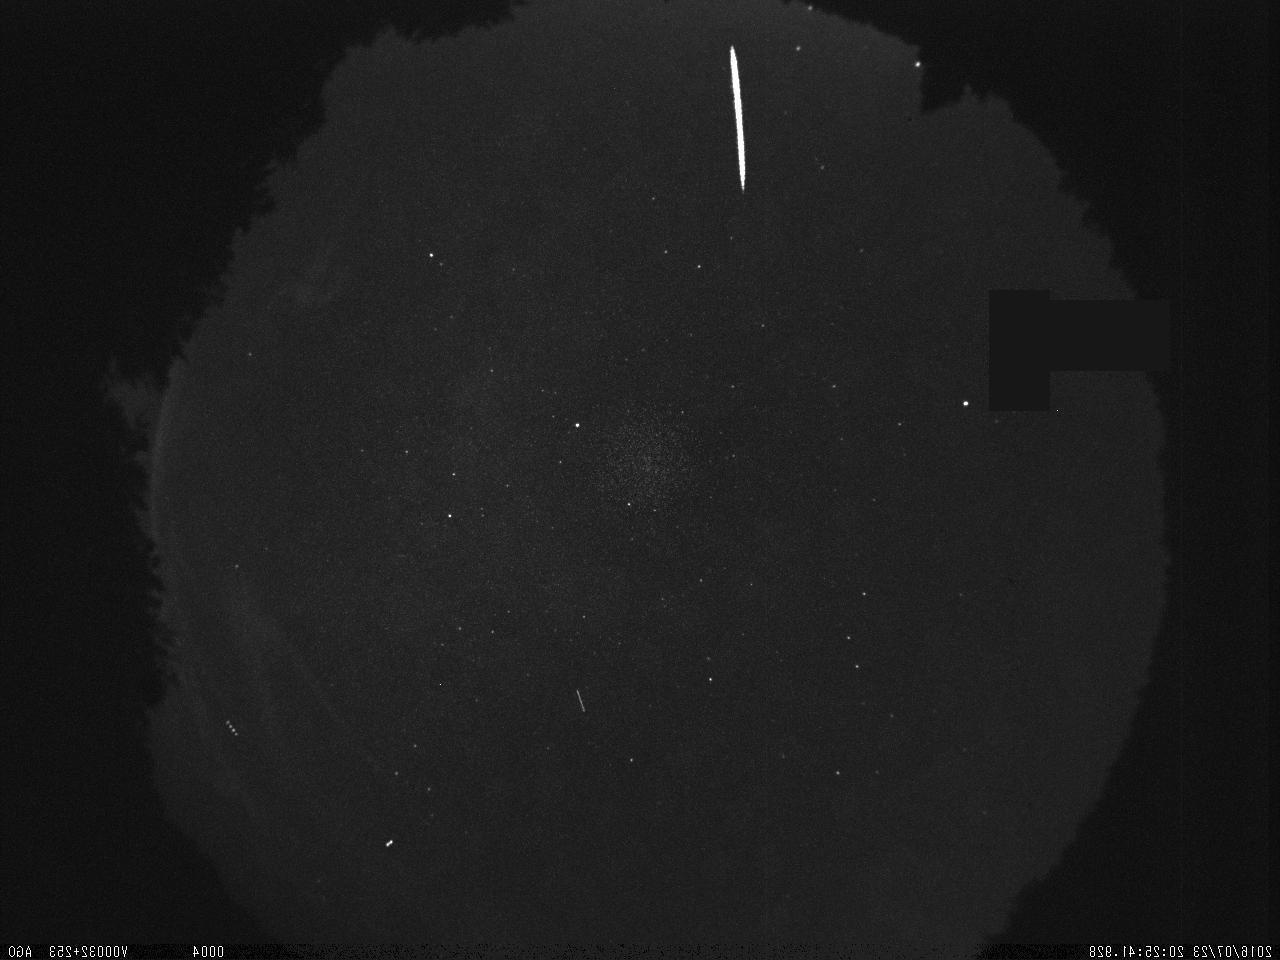meteor: (714, 36, 758, 199)
satelite: (219, 711, 243, 742), (572, 686, 592, 718)
